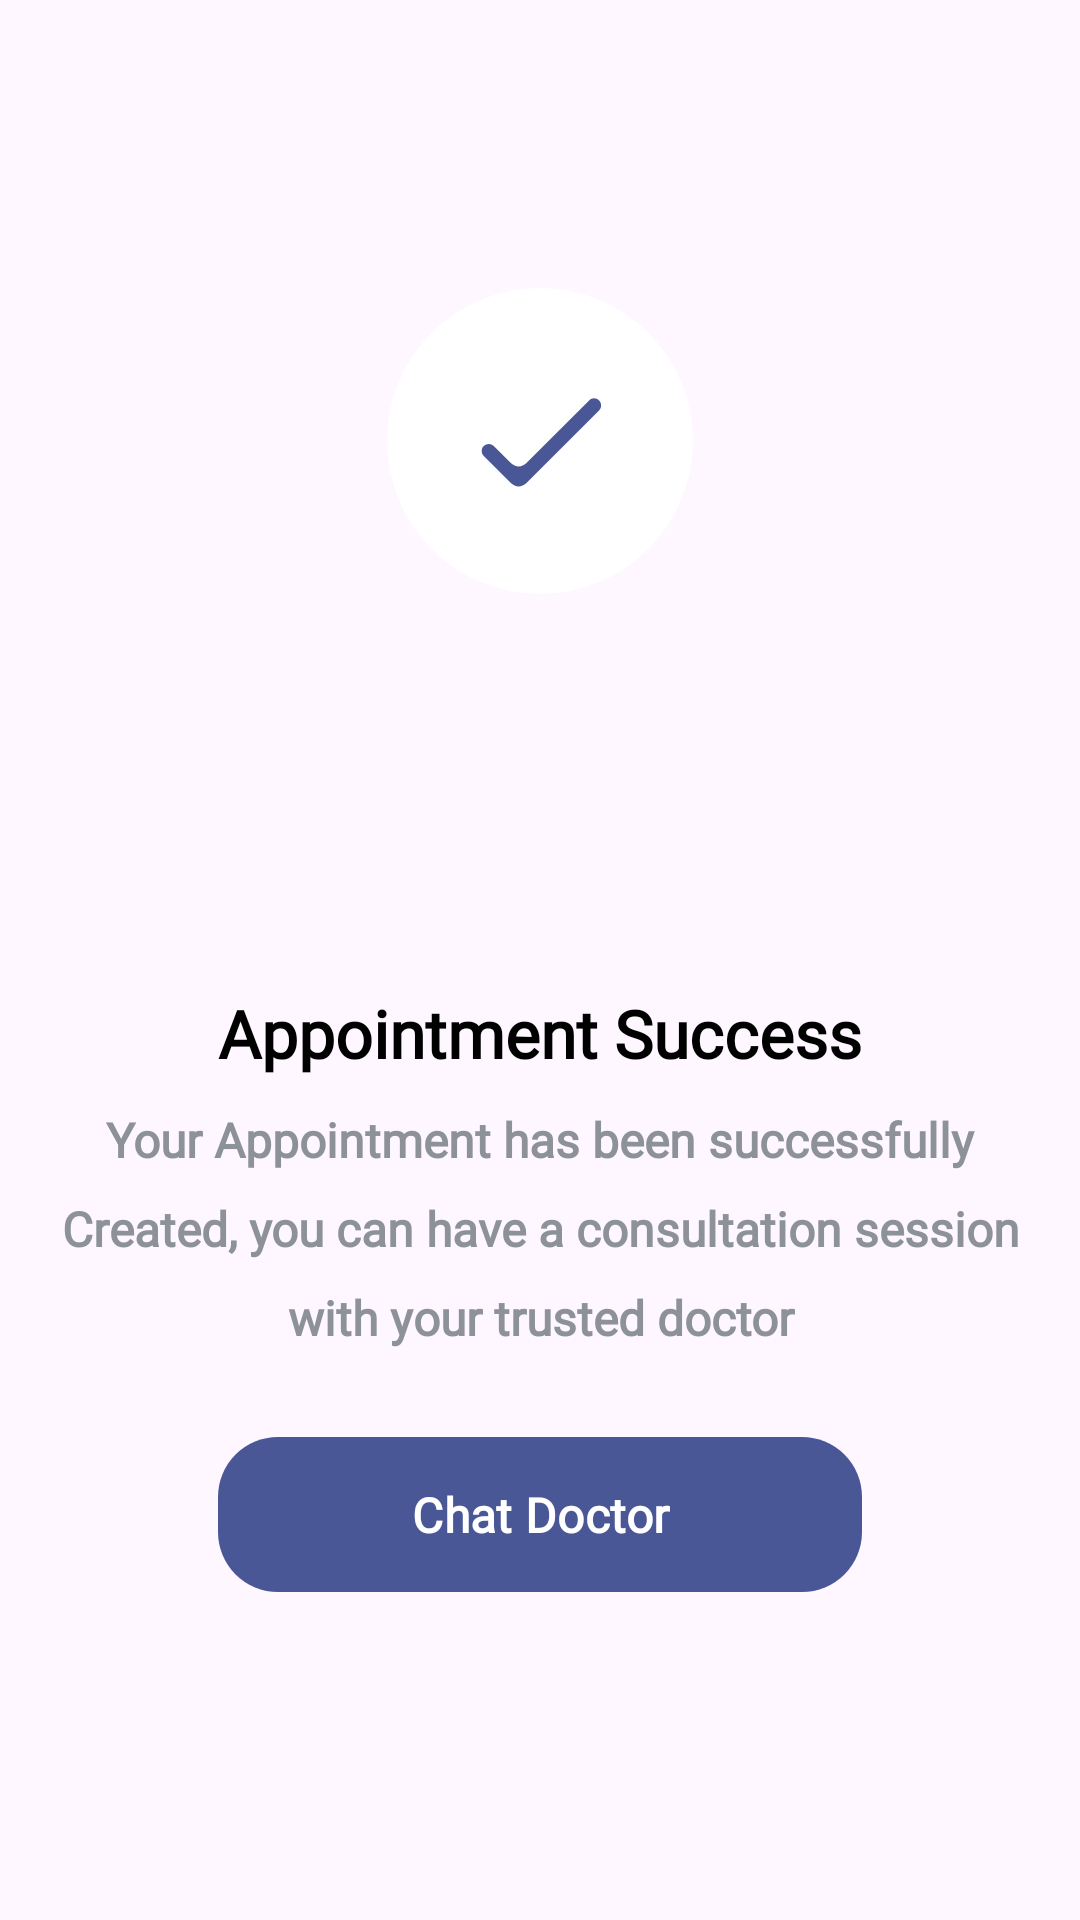

Icons on this 1080px x 1920px Android screen, each with the point to tap as (x=x, y=y):
done: (x=541, y=442)
